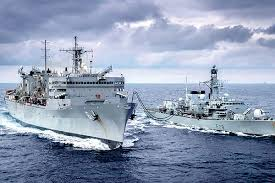tau_muctieu: (9, 48, 133, 149), (159, 72, 275, 139)
